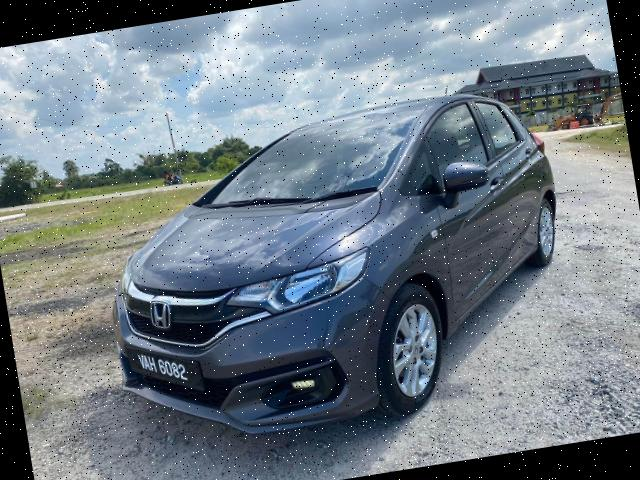License_Plate: (126, 339, 198, 396)
car: (84, 78, 591, 465)
